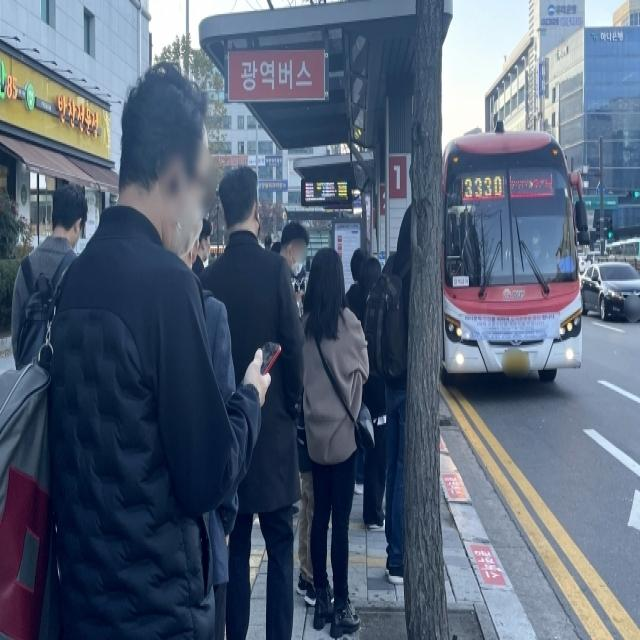bus-number: (463, 175, 502, 198)
